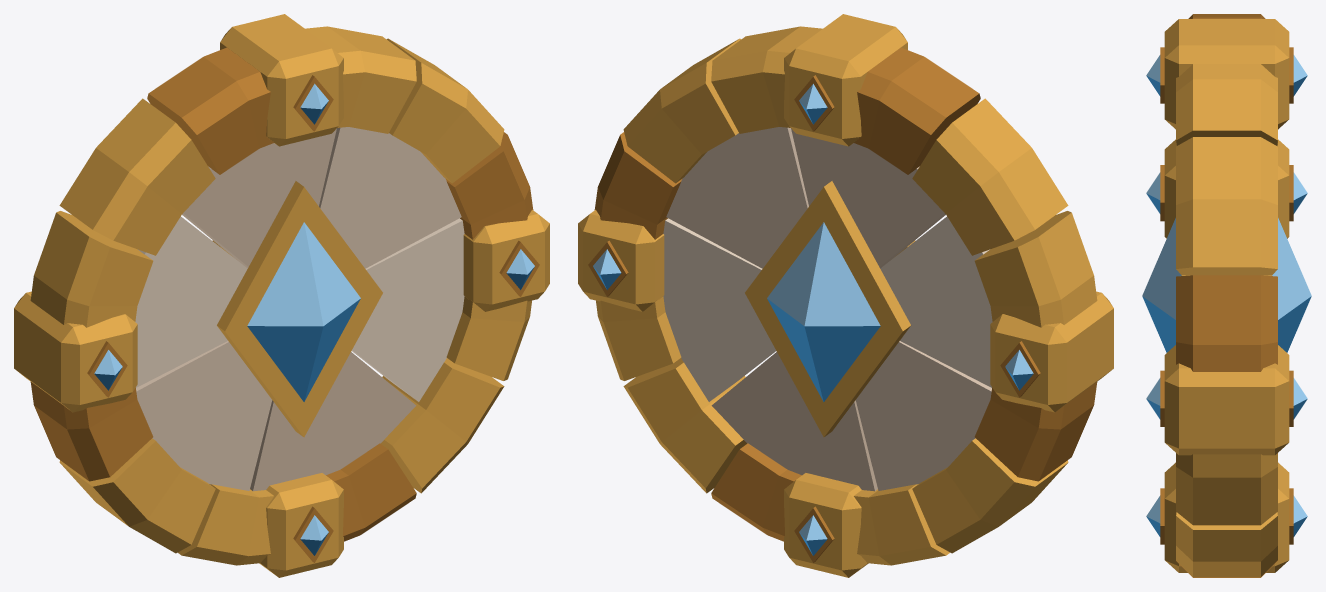
Rendered from Moeda.fbx.
3 renders of one model, left to right at view 1: azimuth 30°, elevation 25°; view 2: azimuth 150°, elevation 25°; view 3: azimuth 270°, elevation 25°, orthographic. The views are drawn at different scales.
Parts seen in each view (by area): view 1: Moeda; view 2: Moeda; view 3: Moeda.
Boxes of the visible parts, x1=… form: Moeda: x1=14, y1=14, x2=549, y2=577; Moeda: x1=578, y1=14, x2=1113, y2=577; Moeda: x1=1142, y1=14, x2=1311, y2=577.
Bounding box in the file's own units: 1.02 × 1.03 × 0.3.
